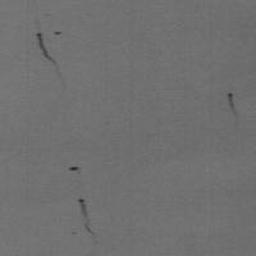Inclusion: (35, 32, 65, 79), (77, 197, 97, 238), (227, 92, 239, 119), (52, 29, 64, 37), (68, 165, 79, 173), (69, 230, 78, 237)
